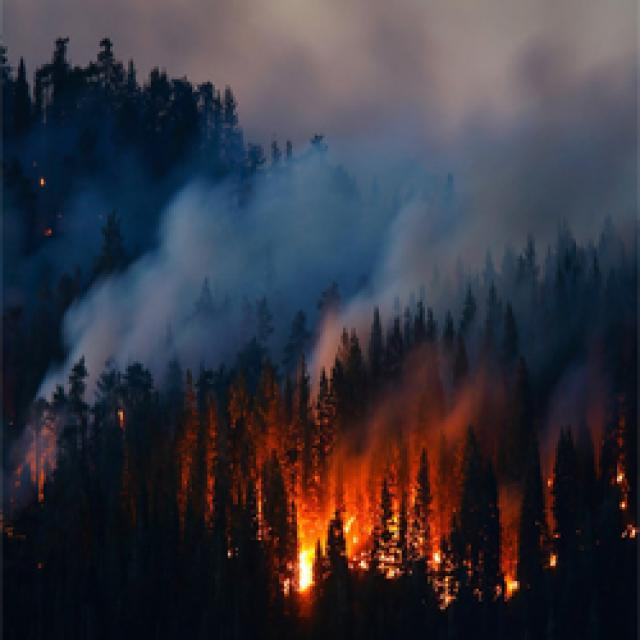Fire: (8, 431, 54, 496), (282, 526, 314, 594), (372, 500, 400, 577), (615, 476, 640, 541), (408, 482, 427, 559), (340, 512, 366, 568), (432, 548, 454, 604), (497, 575, 526, 596), (549, 546, 562, 570)
Smoke: (0, 0, 640, 406), (291, 406, 586, 480)
